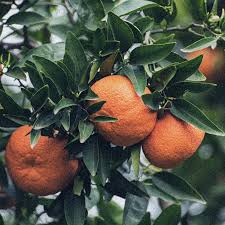orange: (82, 69, 159, 149), (4, 123, 80, 197), (148, 106, 205, 168)
